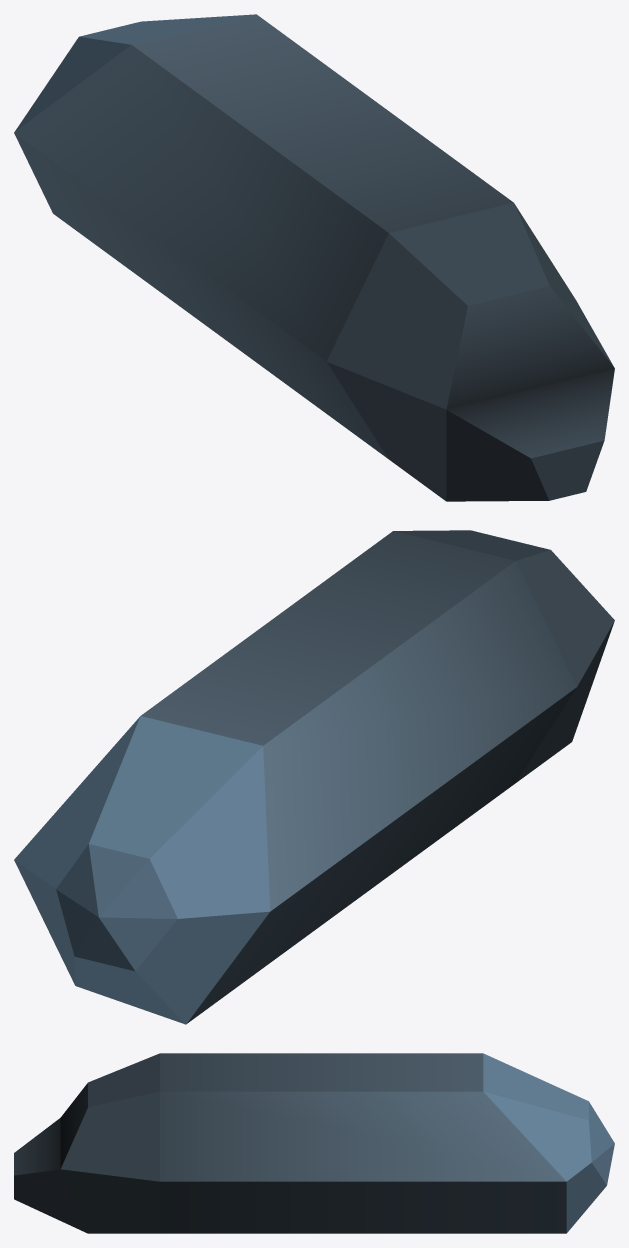
The model's file is CalciteCrystal.003.glb.
3 renders of one model, top to bottom at view 1: azimuth 30°, elevation 25°; view 2: azimuth 150°, elevation 25°; view 3: azimuth 270°, elevation 25°, orthographic. The views are drawn at different scales.
Visible parts, largest first — view 1: CalciteCrystal.003; view 2: CalciteCrystal.003; view 3: CalciteCrystal.003.
Boxes of the visible parts, bbox=[...] form: CalciteCrystal.003: bbox=[14, 14, 614, 501]; CalciteCrystal.003: bbox=[14, 530, 614, 1024]; CalciteCrystal.003: bbox=[14, 1053, 614, 1233].
Bounding box in the file's own units: 201 × 174 × 667.
